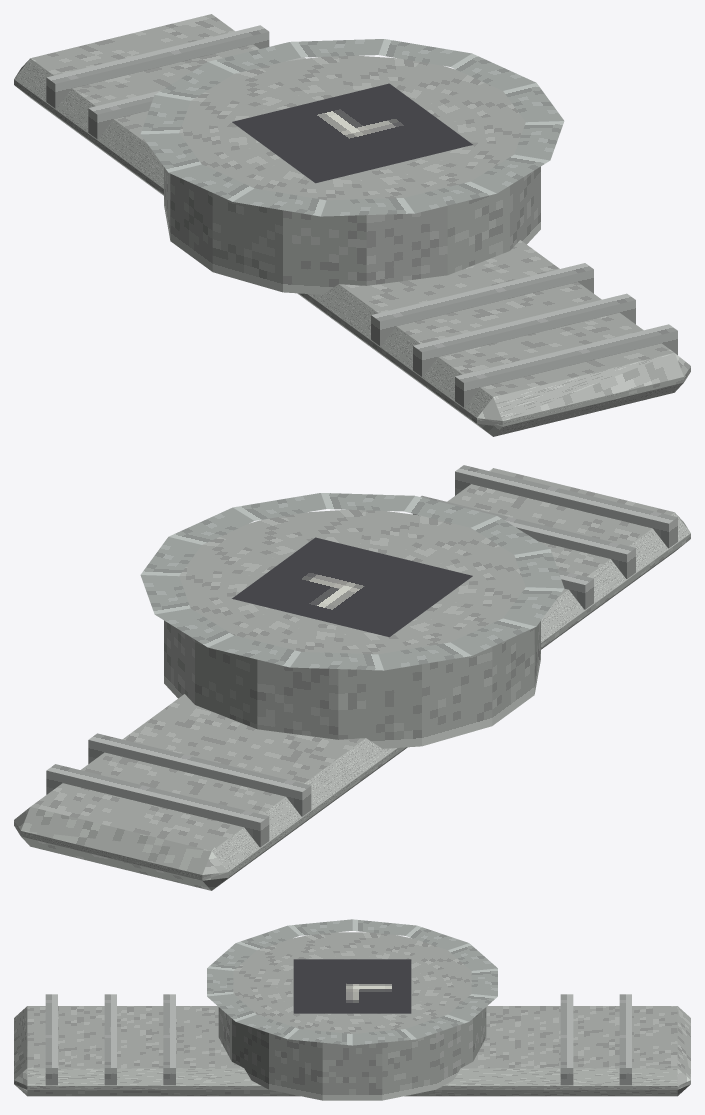
The model's file is diving_watch.glb.
3 renders of one model, top to bottom at view 1: azimuth 30°, elevation 25°; view 2: azimuth 150°, elevation 25°; view 3: azimuth 270°, elevation 25°, orthographic. The views are drawn at different scales.
Parts seen in each view (by area): view 1: block_watch bezel, block_wrist strap, block_bracelet segment (×5), block_watch face, block_thick dive bezel 11, block_thick dive bezel 5, block_thick dive bezel 4, block_thick dive bezel 12, block_thick dive bezel 3, block_thick dive bezel 10, block_thick dive bezel 13, block_thick dive bezel 6 (+6 smaller); view 2: block_watch bezel, block_wrist strap, block_bracelet segment (×5), block_watch face, block_thick dive bezel 2, block_thick dive bezel 8, block_thick dive bezel 1, block_thick dive bezel 9, block_thick dive bezel 10, block_thick dive bezel 3, block_thick dive bezel 0, block_thick dive bezel 7 (+6 smaller); view 3: block_wrist strap, block_watch bezel, block_watch face, block_bracelet segment (×5), block_thick dive bezel 6, block_thick dive bezel 7, block_thick dive bezel 0, block_thick dive bezel 13, block_thick dive bezel 5, block_thick dive bezel 8, block_thick dive bezel 1, block_thick dive bezel 12 (+6 smaller).
Boxes of the visible parts, box(x1,y1,x2,y2) form: block_watch bezel: box(164, 55, 540, 294); block_wrist strap: box(14, 14, 690, 436); block_bracelet segment (×5): box(46, 25, 677, 407); block_watch face: box(232, 83, 472, 183); block_thick dive bezel 11: box(290, 39, 383, 57); block_thick dive bezel 5: box(233, 188, 326, 216); block_thick dive bezel 4: box(321, 198, 414, 216); block_thick dive bezel 12: box(378, 39, 471, 66); block_thick dive bezel 3: box(404, 181, 496, 213); block_thick dive bezel 10: box(208, 42, 300, 73); block_thick dive bezel 13: box(451, 53, 535, 90); block_thick dive bezel 6: box(169, 164, 253, 201); block_watch bezel: box(164, 509, 540, 748); block_wrist strap: box(14, 468, 690, 890); block_bracelet segment (×5): box(46, 465, 677, 847); block_watch face: box(232, 537, 472, 637); block_thick dive bezel 2: box(321, 493, 414, 511); block_thick dive bezel 8: box(378, 642, 471, 670); block_thick dive bezel 1: box(233, 493, 326, 520); block_thick dive bezel 9: box(290, 652, 383, 670); block_thick dive bezel 10: box(208, 635, 300, 667); block_thick dive bezel 3: box(404, 496, 496, 527); block_thick dive bezel 0: box(169, 507, 253, 544); block_thick dive bezel 7: box(451, 618, 535, 655); block_wrist strap: box(14, 1006, 690, 1096); block_watch bezel: box(218, 932, 486, 1100); block_watch face: box(293, 959, 411, 1013); block_bracelet segment (×5): box(45, 994, 631, 1085); block_thick dive bezel 6: box(288, 919, 352, 935); block_thick dive bezel 7: box(352, 919, 416, 935); block_thick dive bezel 0: box(288, 1029, 352, 1045); block_thick dive bezel 13: box(352, 1029, 416, 1045); block_thick dive bezel 5: box(236, 925, 298, 949); block_thick dive bezel 8: box(406, 925, 468, 949); block_thick dive bezel 1: box(236, 1014, 298, 1039); block_thick dive bezel 12: box(406, 1014, 468, 1039).
Bounding box in the file's own units: 0.0568 × 0.0173 × 0.1286.
Materials: 1 (1 with a texture image).
